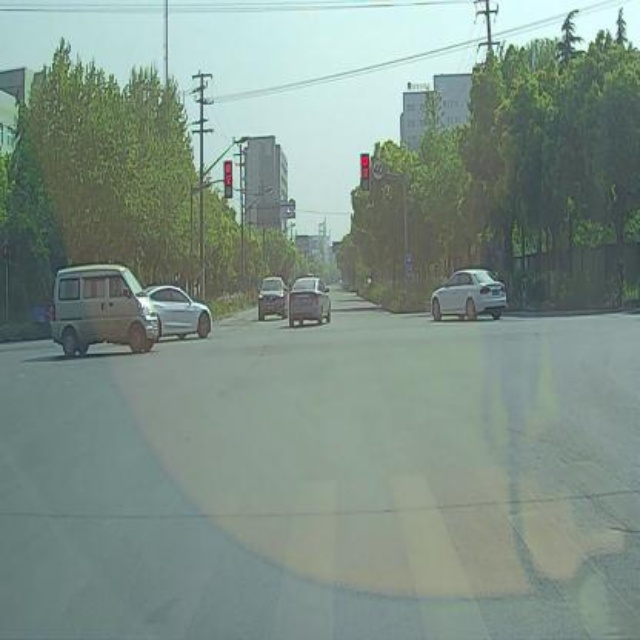Tốc độ tối đa cho phép 10km/h: (373, 159, 384, 181)
Đèn đỏ: (223, 160, 234, 200), (361, 153, 370, 193)
